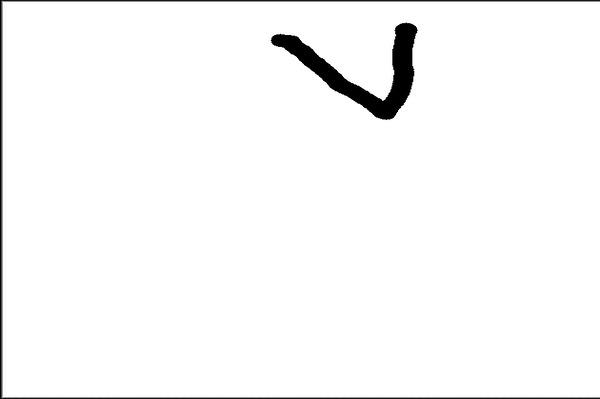V: (267, 18, 434, 124)
